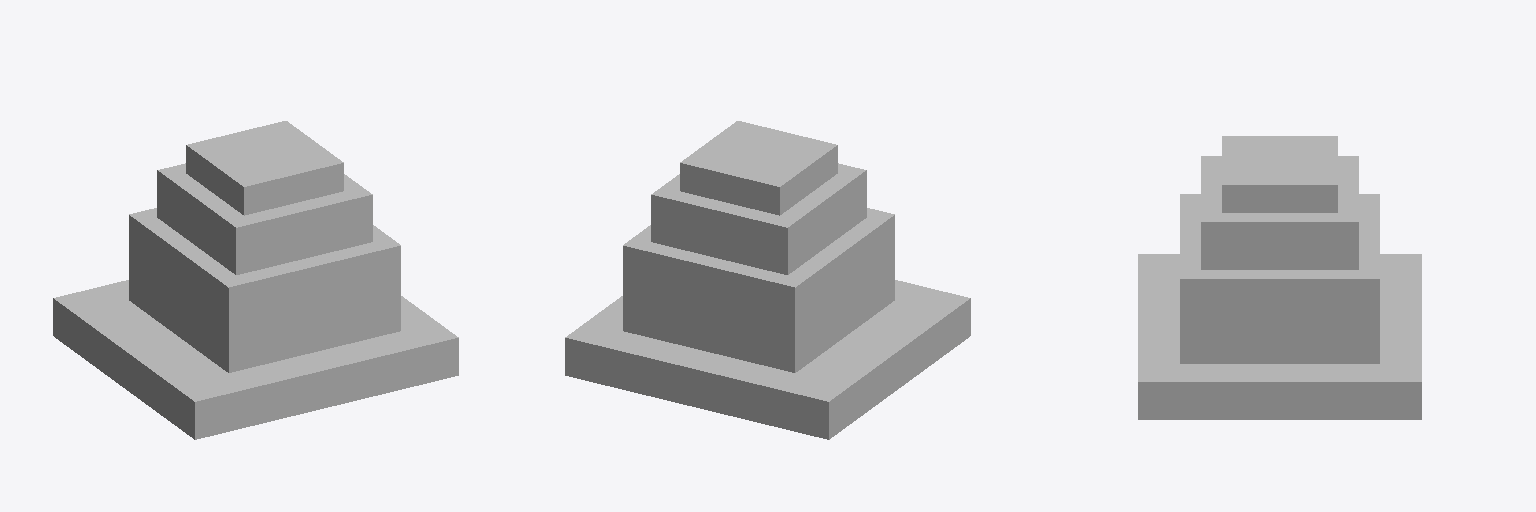
File: RangeTower0_Bottom.obj
3 views of the same model, side by side, from view 1: azimuth 30°, elevation 25°; view 2: azimuth 150°, elevation 25°; view 3: azimuth 270°, elevation 25° (orthographic).
Visible parts, largest first — view 1: RangeTower1_Bottom; view 2: RangeTower1_Bottom; view 3: RangeTower1_Bottom.
Part boxes in pixels (left/top/right/bottom): RangeTower1_Bottom: left=53, top=121, right=458, bottom=439; RangeTower1_Bottom: left=565, top=121, right=970, bottom=439; RangeTower1_Bottom: left=1138, top=136, right=1421, bottom=419.
Bounding box in the file's own units: 29 × 21 × 27.